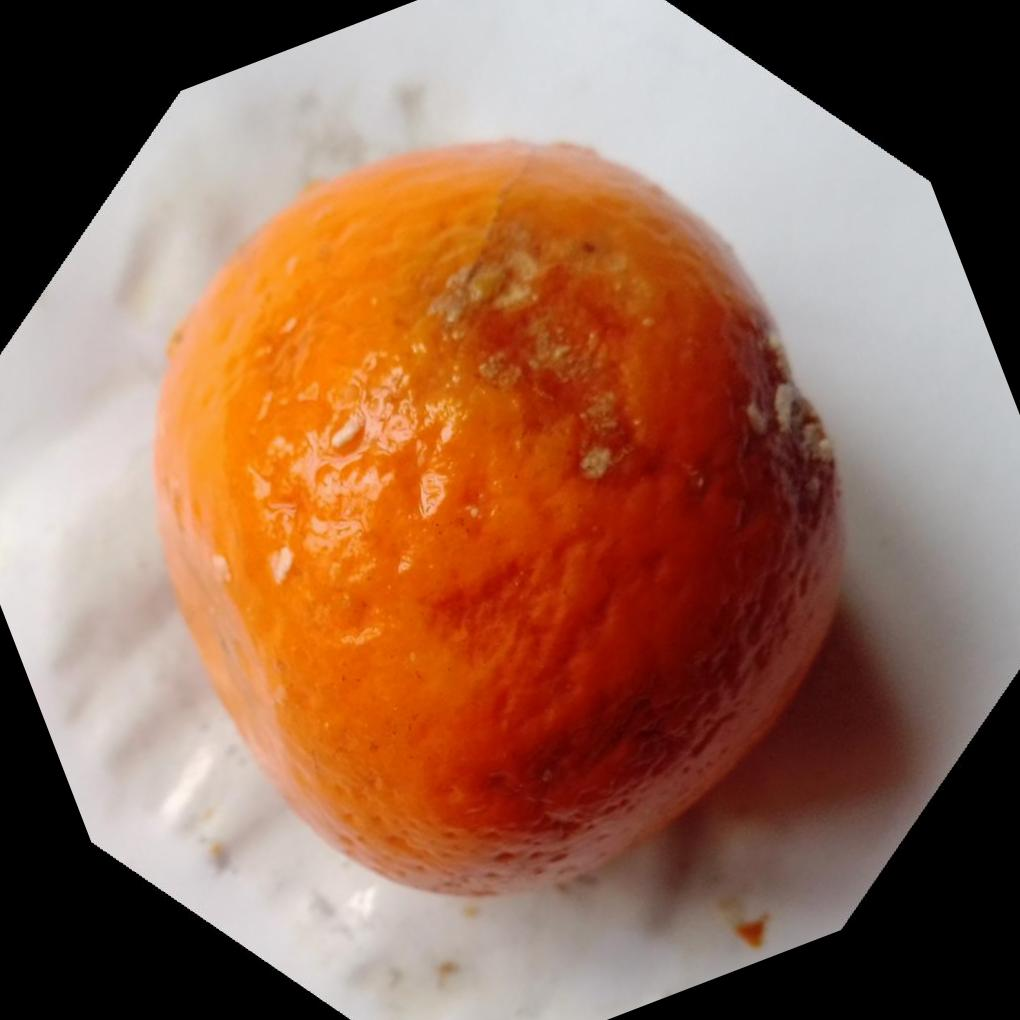FreshOrange: (149, 139, 848, 904)
